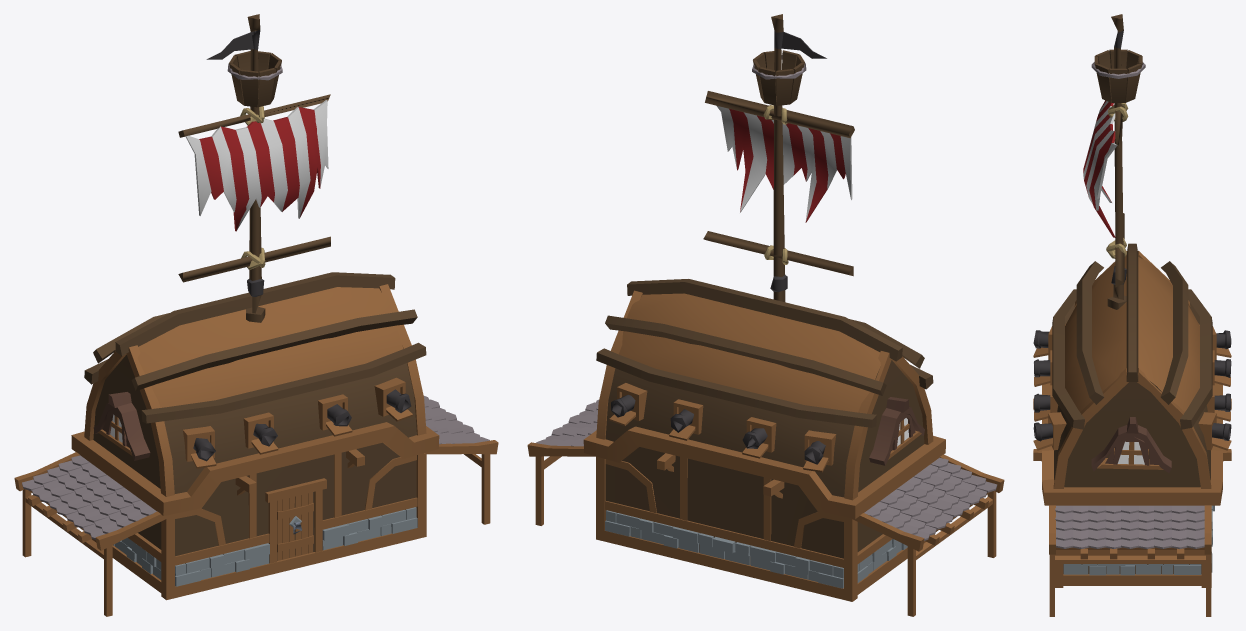
Rendered from hut.glb.
The picture shows the model from 3 angles, left to right: view 1: azimuth 30°, elevation 25°; view 2: azimuth 150°, elevation 25°; view 3: azimuth 270°, elevation 25°; orthographic projection. The views are drawn at different scales.
Visible parts, largest first — view 1: Environment_House3; view 2: Environment_House3; view 3: Environment_House3.
Boxes of the visible parts, left/top/right/bottom form: Environment_House3: left=14, top=14, right=498, bottom=616; Environment_House3: left=527, top=14, right=1004, bottom=616; Environment_House3: left=1033, top=14, right=1231, bottom=616.
Bounding box in the file's own units: 8.74 × 11 × 3.91.
2 materials, 1 textured.
